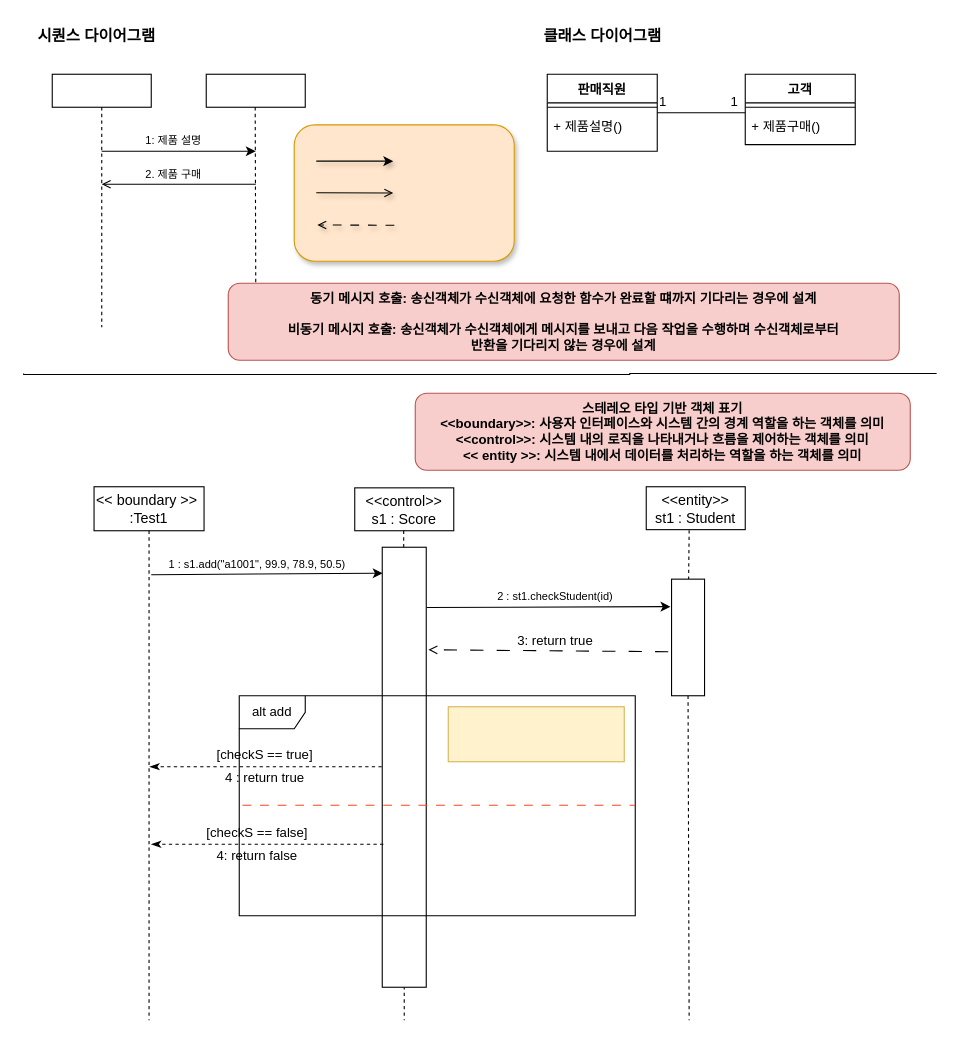
This 957x1041 diagram has some shape labels left out. Here are the shapes that lost their labels. From the top down, the centre of each, then its label:
At (101,90): "e1:판매직원".
At (255,90): "c1: 고객".
At (405,194): "호출(동기) 메시지 비동기 메시지 return 메시지".
At (535,734): "total = java + db + security; average = total / 3.0;".
